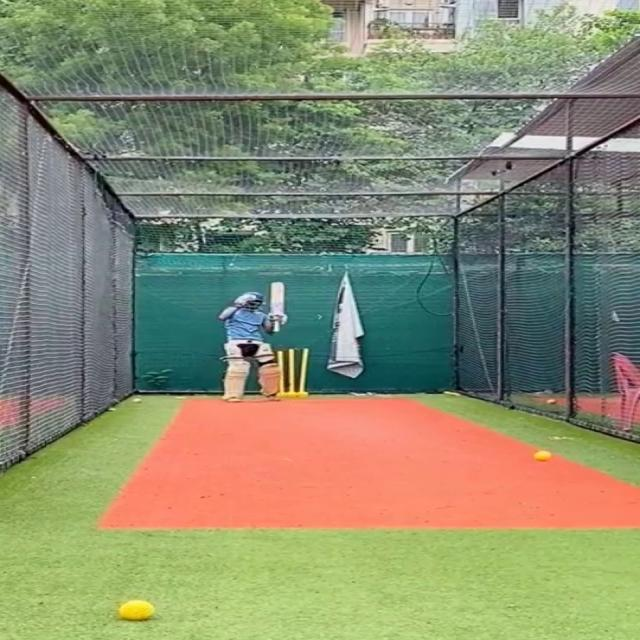ball: (114, 598, 161, 621), (534, 447, 558, 462), (546, 398, 560, 405), (130, 397, 144, 404)
stump: (276, 346, 312, 396)
